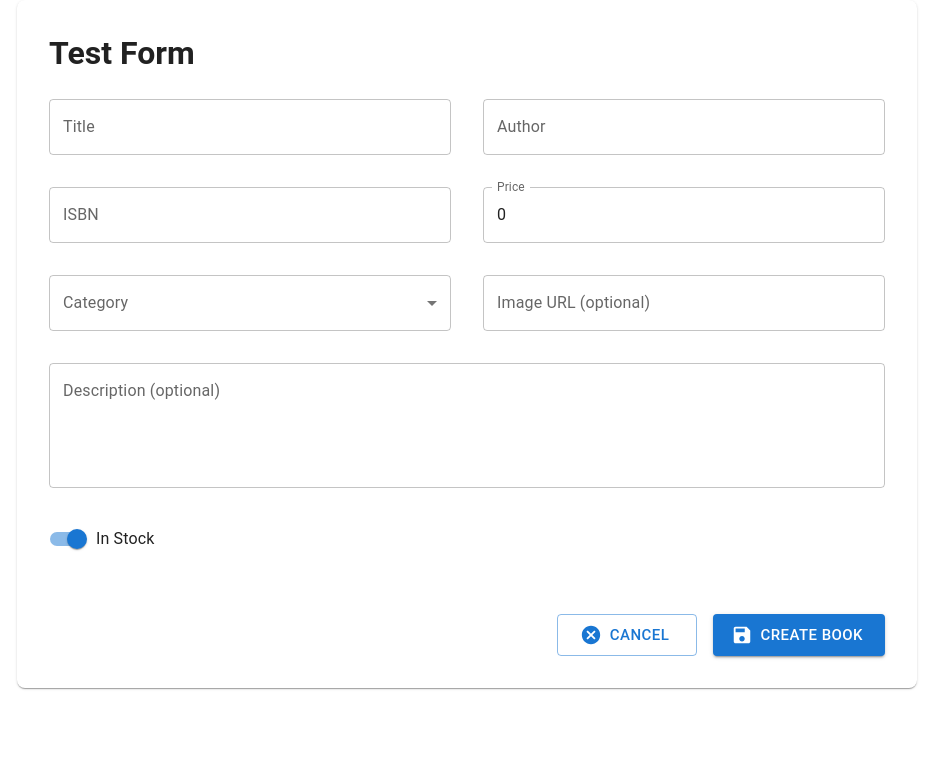
Scenario: BookForm › validates ISBN format
Type "invalid-isbn" into the field labelled "ISBN" at (250, 215), box x1=49 y1=187 x2=451 y2=243
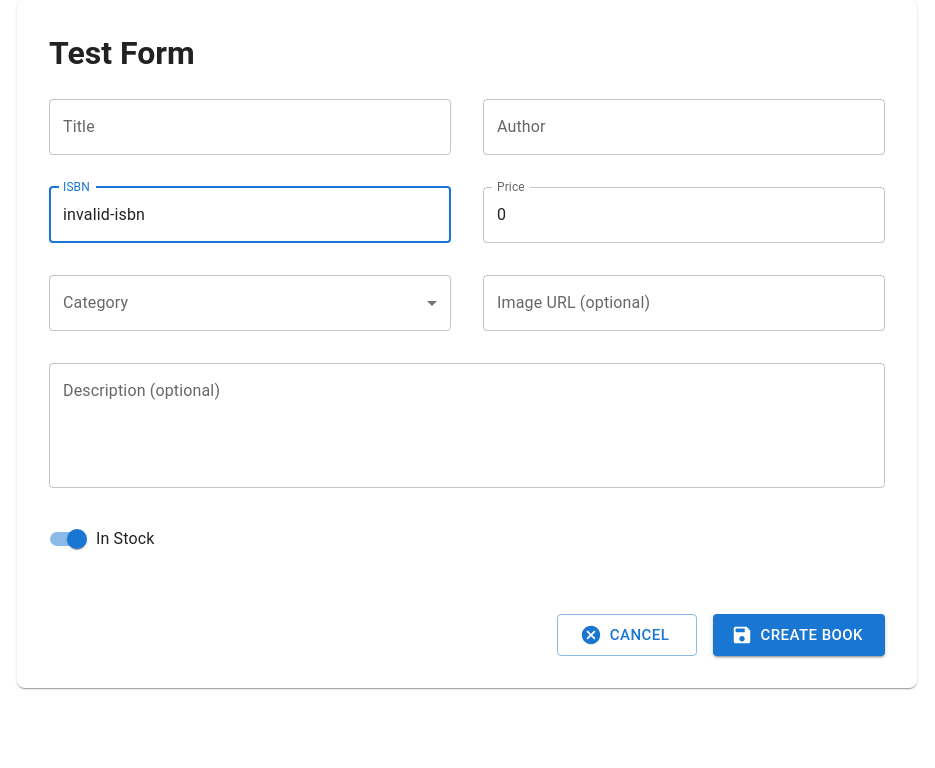
Click the button "Create Book" at (799, 635), box x1=713 y1=614 x2=885 y2=656
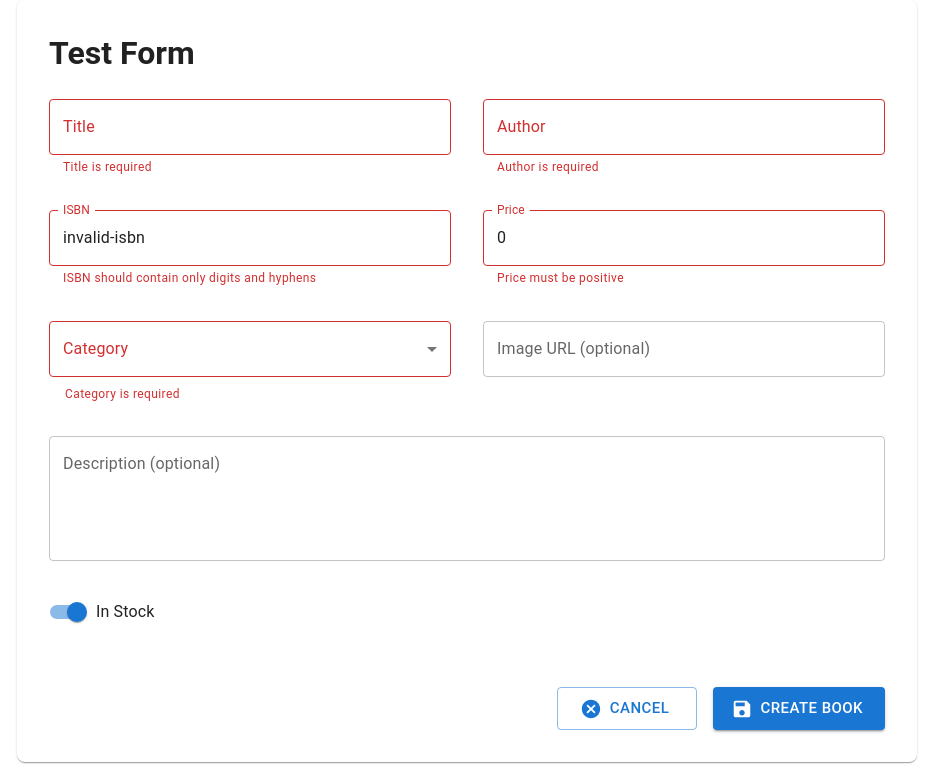
expect the text "ISBN should contain only digits and hyphens" is shown: met, box x1=63 y1=271 x2=316 y2=285
